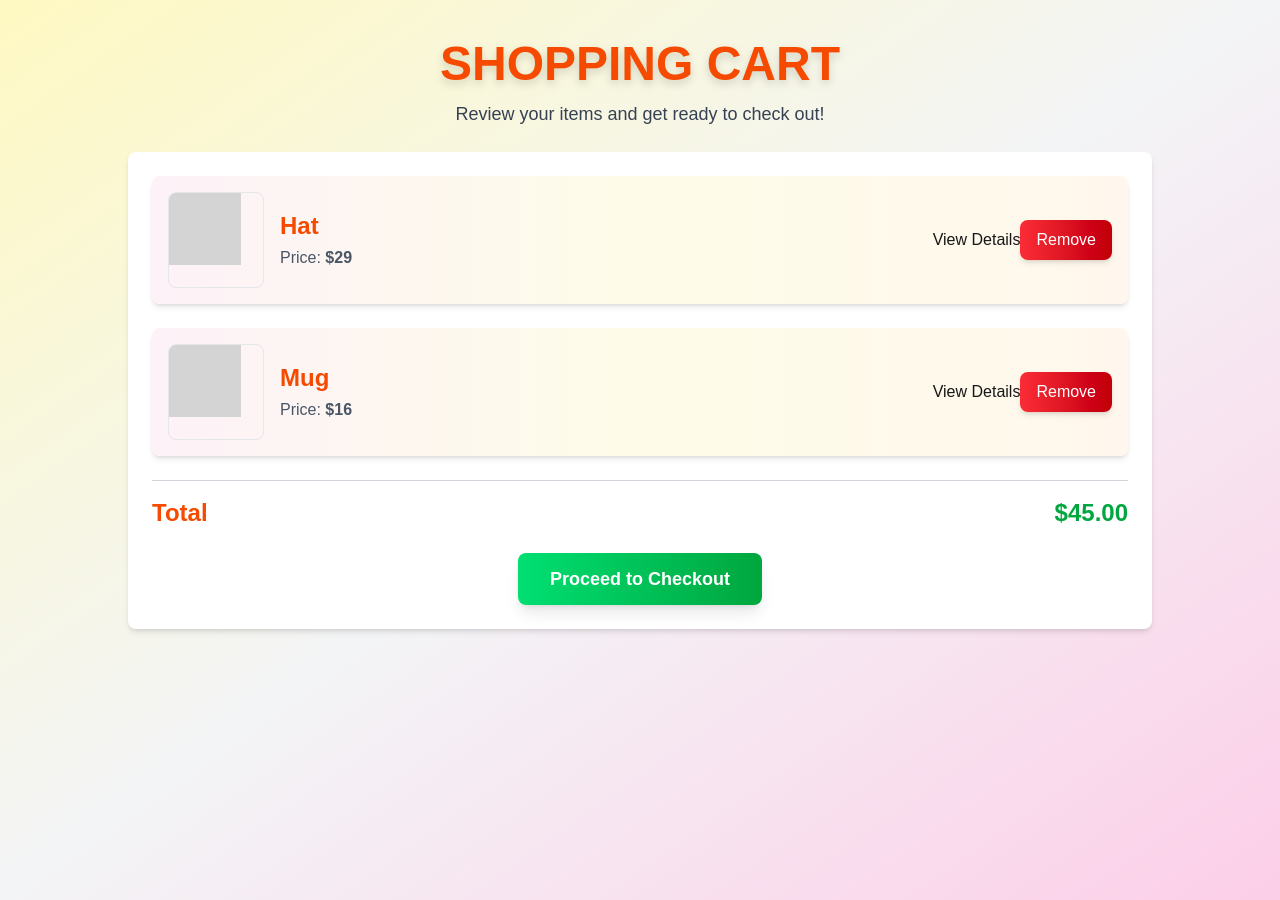
Test: ShoppingCartList › removes item from the list after a successful delete
The image size is (1280, 900).
Click the button "Remove" in the row of "29". click: (1066, 240)
box: [1020, 220, 1112, 260]
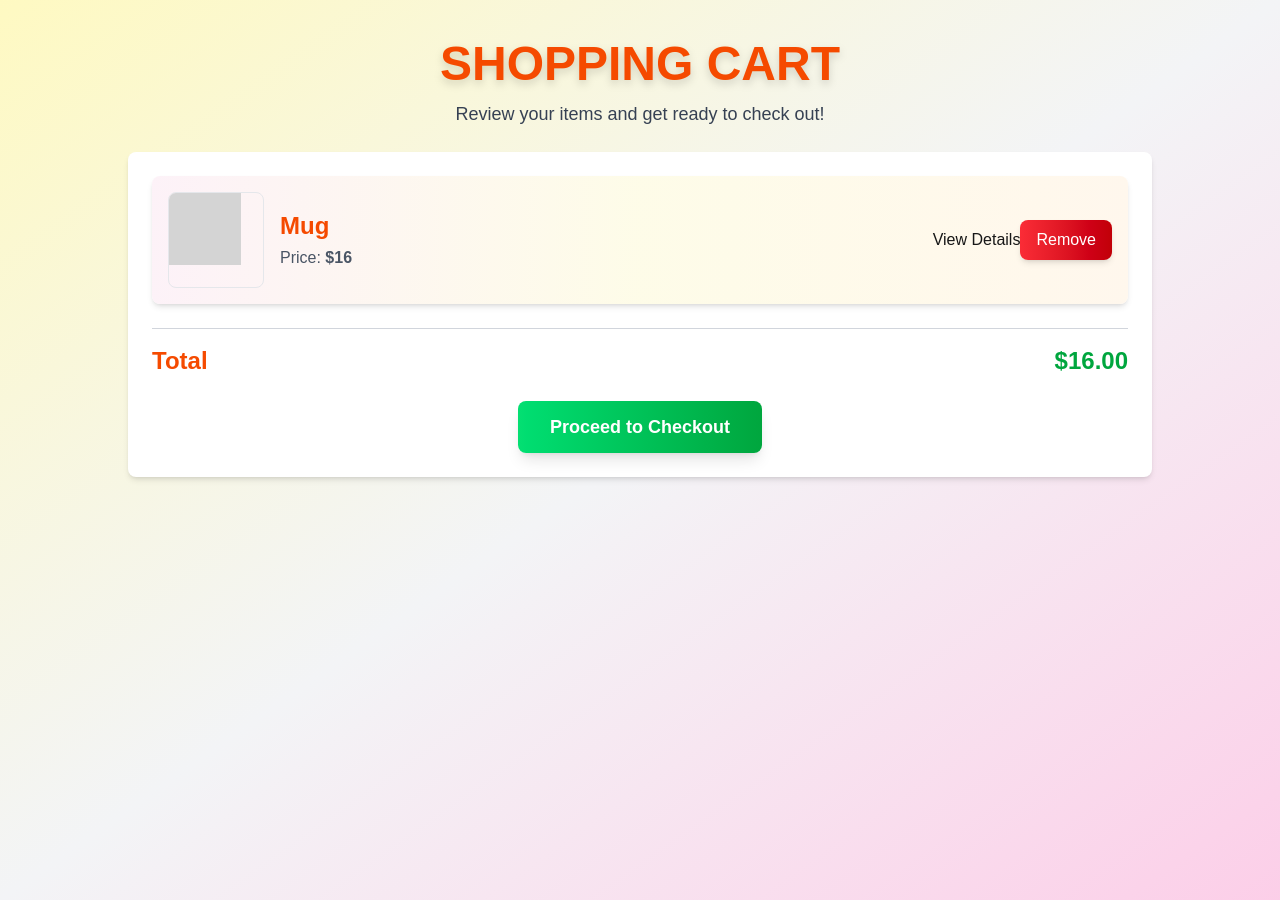
Expected: the heading "Mug" is shown, [280, 212, 329, 239]
Result: the heading "Hat" is gone
